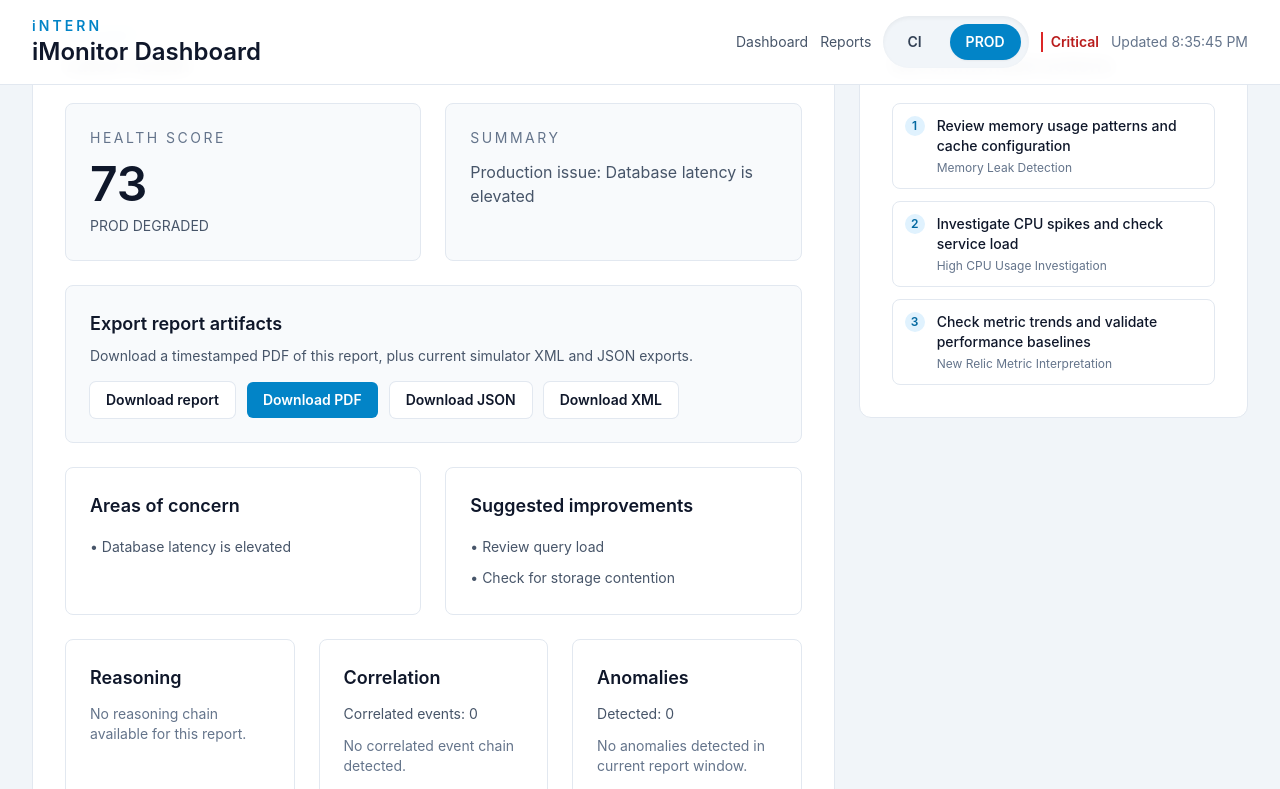
Scenario: report exports in the dashboard › downloads json exports once even when repeatedly clicked
The width and height of the screenshot is (1280, 789).
(page scrolled)
Click the button "Download JSON" at [461, 400], box [390,382,532,418]
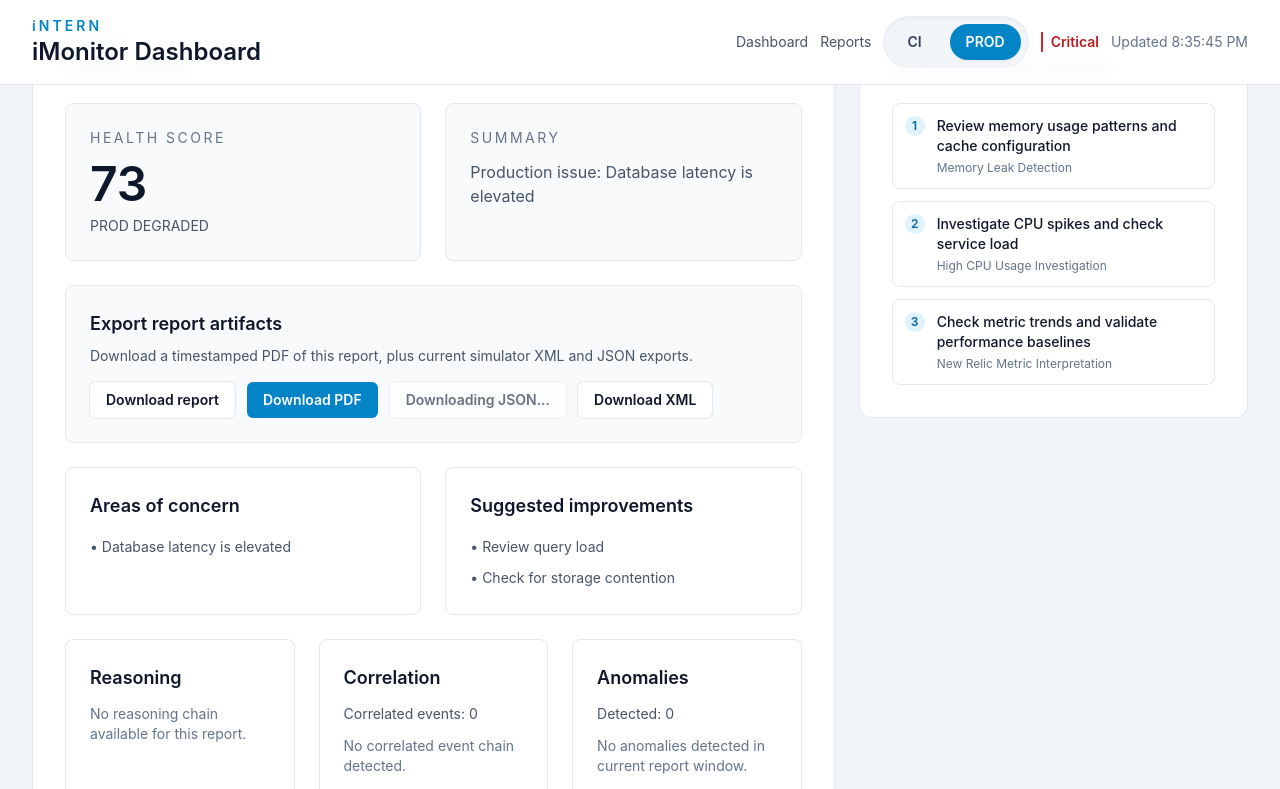
Now the button "Downloading JSON..." is disabled
Click the button "Downloading JSON..." at [478, 400], box [390,382,566,418]
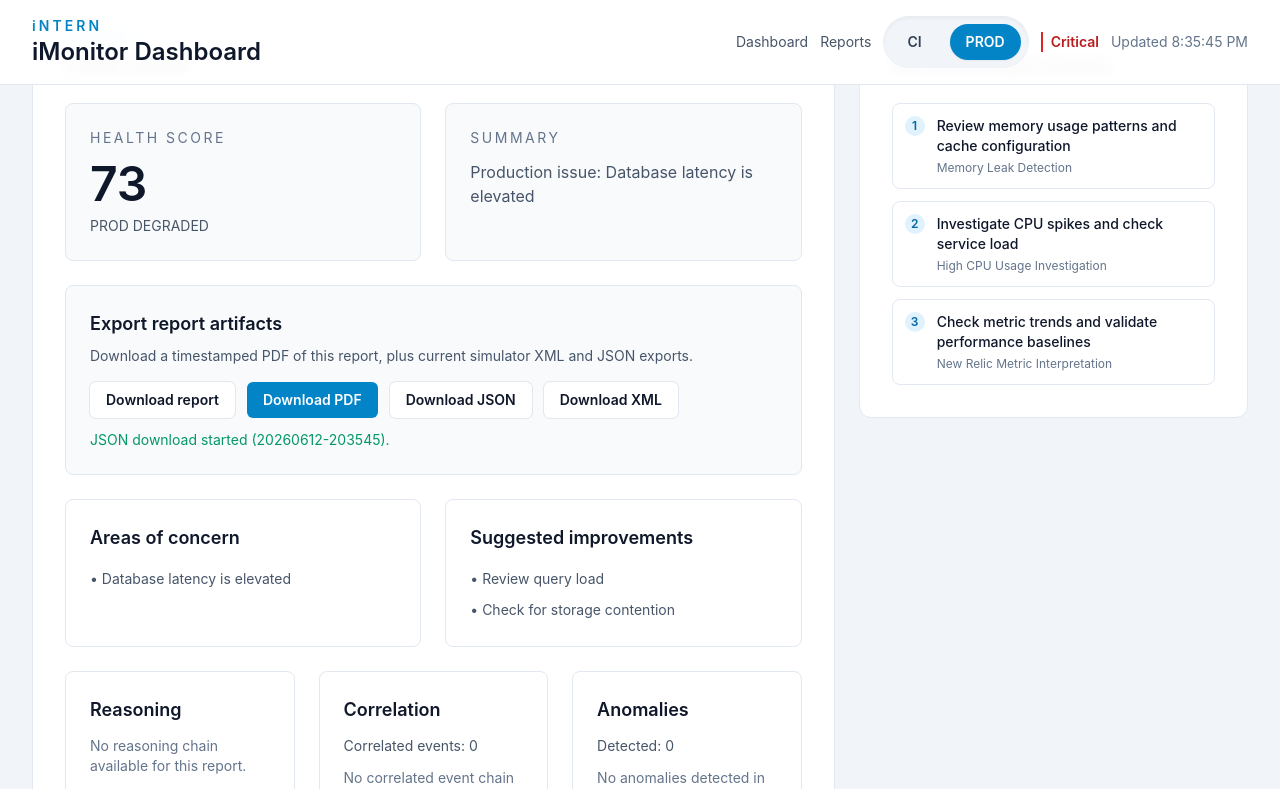
Now the text "JSON download started (20260612-203545)." is shown, box [90,431,390,448]
